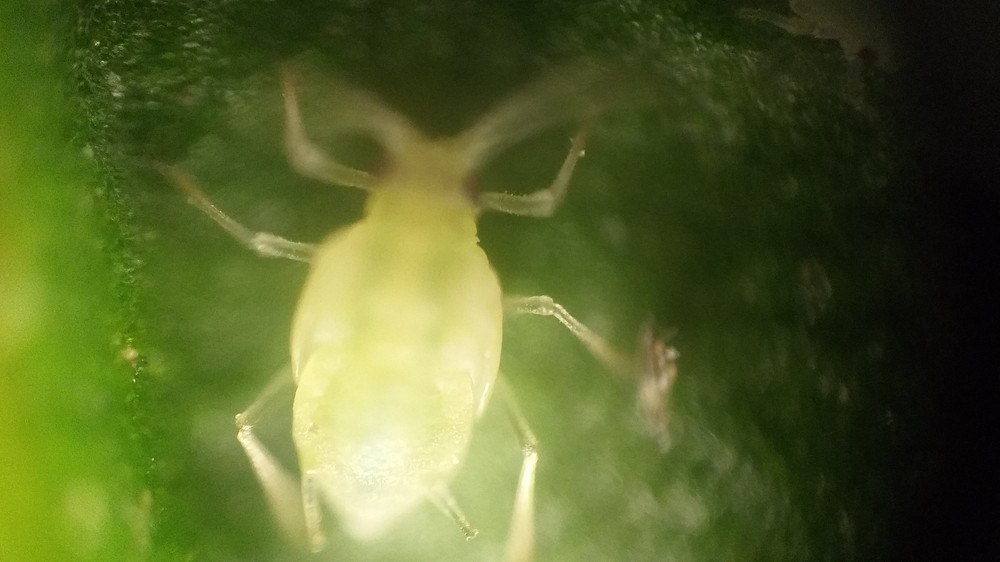Pulgon: (191, 64, 625, 560)
